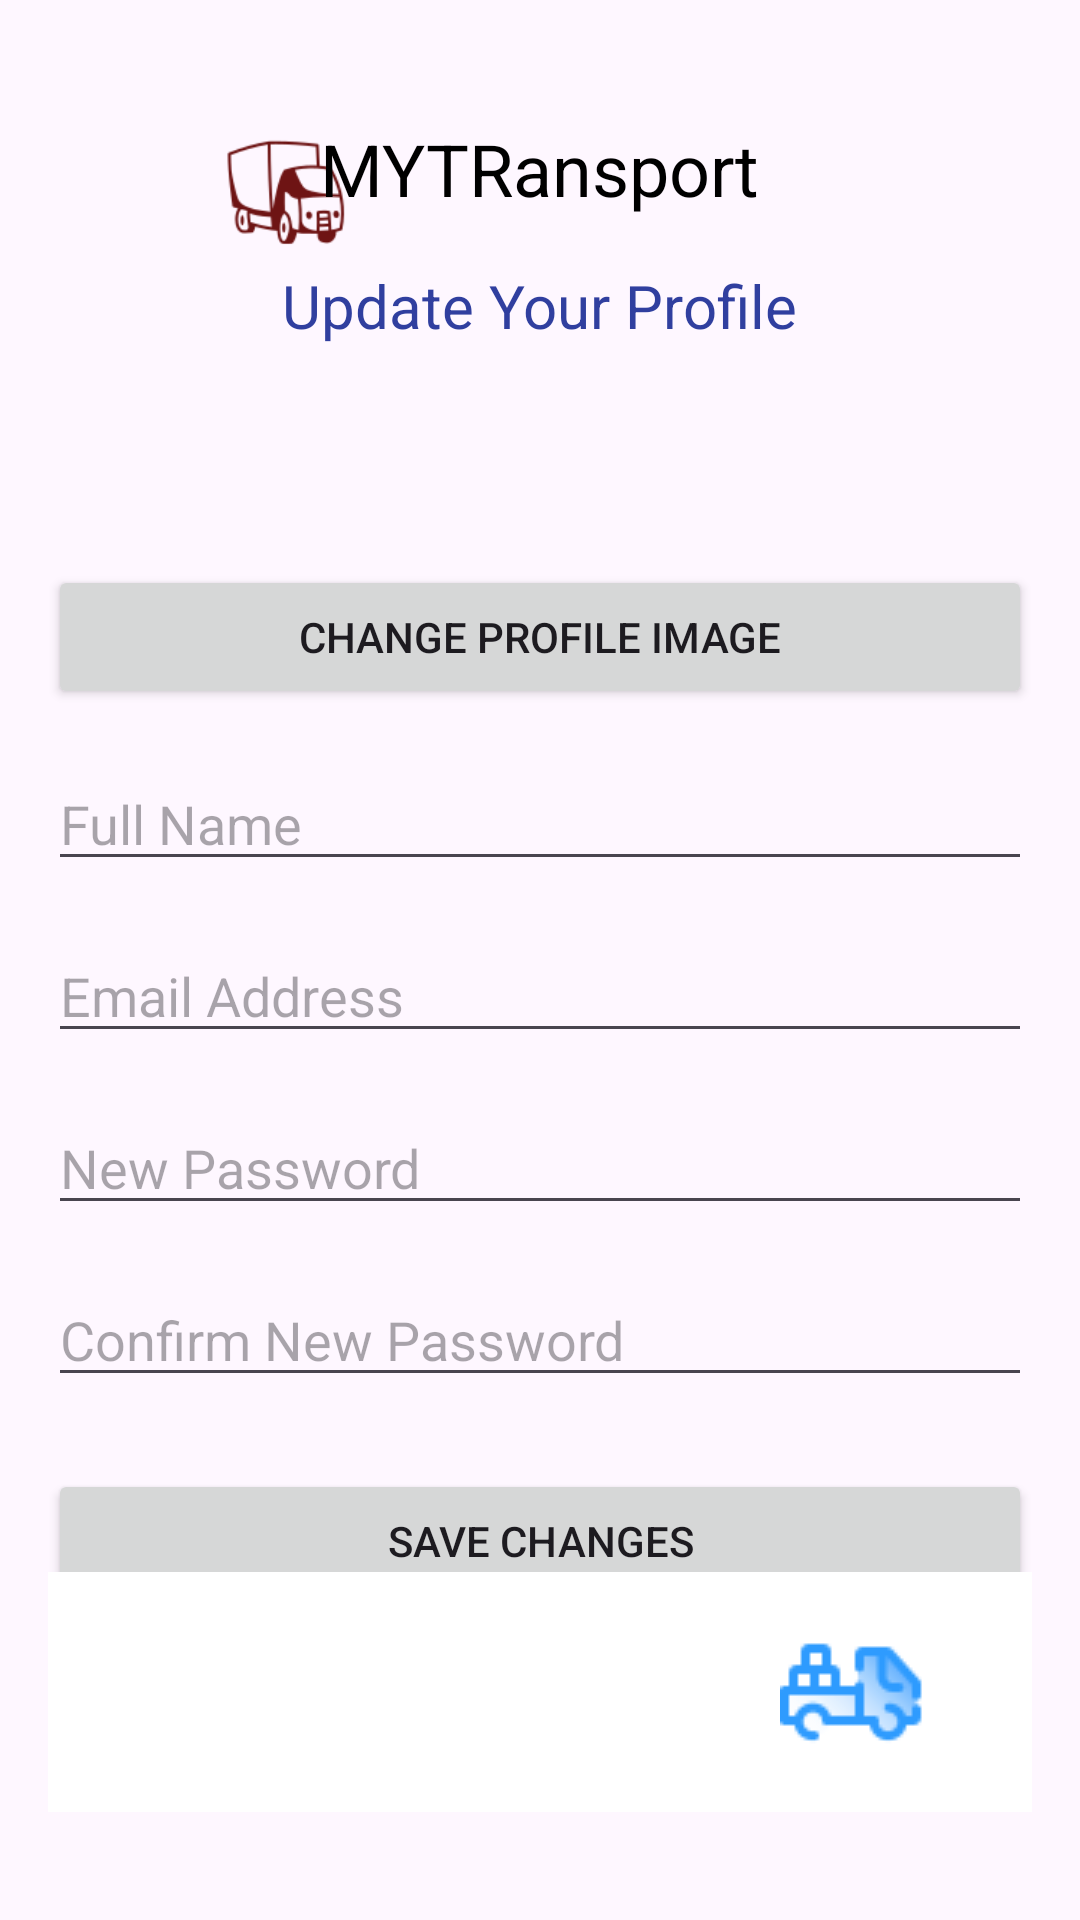

Icon click points for this 1080*1920 phone screenshot, format point (x, y):
trip: point (851, 1692)
